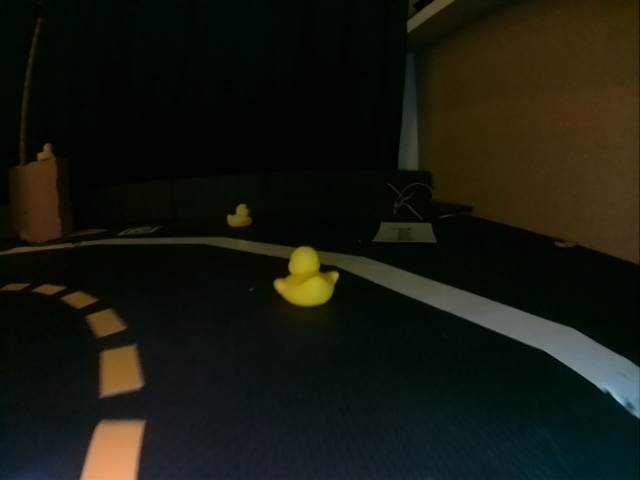Duckie: (275, 245, 340, 306), (225, 202, 250, 227), (36, 142, 53, 160)
QR code: (118, 225, 160, 235)
